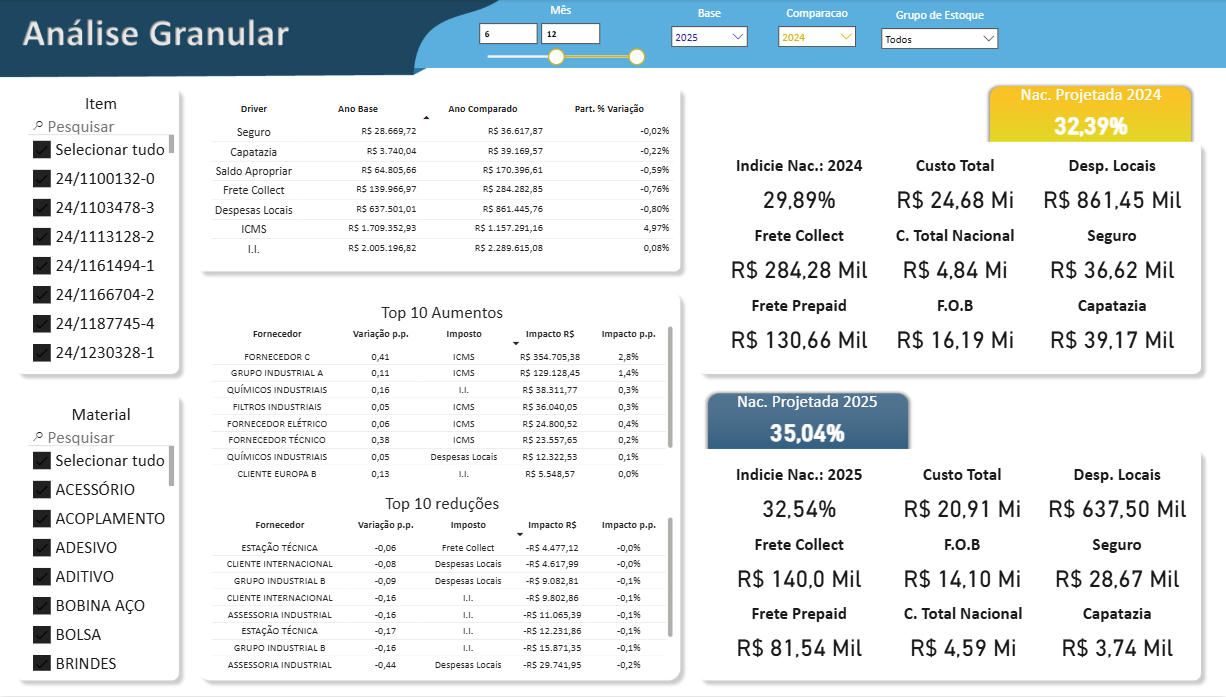

Layout of this report page (visuals, bound fields, positions):
{"tool":"powerbi","page":{"name":"Análise Granular","canvas":[1900,1080],"ordinal":3},"visuals":[{"type":"slicer","title":"Material","fields":{"Values":["DADOS IMPORTAÇÃO.FAM. MATERIAL"]},"box":[38,628,236,418],"z":0},{"type":"card","title":"Desp. Locais","fields":{"Values":["Medidas.Base Despesas Locais"]},"box":[1616,720,230,100],"z":0,"group":"g1"},{"type":"slicer","title":"Item","fields":{"Values":["DADOS IMPORTAÇÃO.CÓD. DI"]},"box":[38,146,236,428],"z":1000},{"type":"card","fields":{"Values":["Medidas.Base % Nacionalização"]},"box":[1124,720,230,100],"z":1000,"group":"g3"},{"type":"card","title":"Seguro","fields":{"Values":["Medidas.Base Seguro"]},"box":[1616,828,230,100],"z":1000,"group":"g1"},{"type":"card","fields":{"Values":["Medidas.Comparacao % Nacionalização"]},"box":[1124,242,230,100],"z":2000},{"type":"card","title":"Frete Collect","fields":{"Values":["Medidas.Base Frete Collect"]},"box":[1124,828,230,100],"z":2000,"group":"g3"},{"type":"card","title":"Capatazia","fields":{"Values":["Medidas.Base Capatazia"]},"box":[1616,936,230,100],"z":2000,"group":"g1"},{"type":"card","title":"Frete Collect","fields":{"Values":["Medidas.Comparacao Frete Collect"]},"box":[1124,350,230,100],"z":3000},{"type":"card","title":"C. Total Nacional","fields":{"Values":["Medidas.Base Custo Total Nacional"]},"box":[1378,936,230,100],"z":3000,"group":"g2"},{"type":"card","title":"C. Total Nacional","fields":{"Values":["Medidas.Comparacao Custo Total Nacional"]},"box":[1366,350,230,100],"z":4000},{"type":"card","title":"Frete Prepaid","fields":{"Values":["Medidas.Comparacao Frete Prepaid"]},"box":[1124,458,230,100],"z":5000},{"type":"card","title":"Frete Prepaid","fields":{"Values":["Medidas.Base Frete Prepaid"]},"box":[1124,936,230,100],"z":5000,"group":"g3"},{"type":"card","title":"Custo Total","fields":{"Values":["Medidas.Comparação Custo Total"]},"box":[1366,242,230,100],"z":6000},{"type":"card","title":"Custo Total","fields":{"Values":["Medidas.Base Custo Total"]},"box":[1376,720,230,100],"z":6000,"group":"g2"},{"type":"card","title":"F.O.B","fields":{"Values":["Medidas.Comparacao FOB Real"]},"box":[1366,458,230,100],"z":7000},{"type":"card","title":"F.O.B","fields":{"Values":["Medidas.Base FOB Real"]},"box":[1376,828,230,100],"z":7000,"group":"g2"},{"type":"card","fields":{"Values":["Medidas.Nac. Projetado Base"]},"box":[1536,132,310,92],"z":8000},{"type":"card","fields":{"Values":["Medidas.Nac. Projetado Comparação"]},"box":[1098,608,308,92],"z":9000},{"type":"pivotTable","fields":{"Rows":["Categorias.Driver"],"Values":["Categorias.Valor Componente Base (Analise Granular)","Categorias.Valor Componente Comparacao (Analise Granular)","Categorias.Valor Efeito Cascata (Analise Granular)"]},"box":[322,152,726,264],"z":10000},{"type":"tableEx","title":"Top 10 reduções","fields":{"Values":["DADOS IMPORTAÇÃO.DESCRIÇÃO ABREVIADA","Categorias.Variação p.p. Fornecedor Driver","Categorias.Driver","Categorias.Impacto R$ Fornecedor Driver","Categorias.Impacto p.p. (Contribuição ao Total)"]},"box":[322,766,726,280],"z":11000},{"type":"tableEx","title":"Top 10 Aumentos","fields":{"Values":["DADOS IMPORTAÇÃO.DESCRIÇÃO ABREVIADA","Categorias.Variação p.p. Fornecedor Driver","Categorias.Driver","Categorias.Impacto R$ Fornecedor Driver","Categorias.Impacto p.p. (Contribuição ao Total)"]},"box":[322,470,726,282],"z":12000},{"type":"card","title":"Desp. Locais","fields":{"Values":["Medidas.Comparacao Despesas Locais"]},"box":[1608,242,230,100],"z":17000},{"type":"card","title":"Seguro","fields":{"Values":["Medidas.Comparacao Seguro"]},"box":[1608,350,230,100],"z":18000},{"type":"card","title":"Capatazia","fields":{"Values":["Medidas.Comparacao Capatazia"]},"box":[1608,458,230,100],"z":19000},{"type":"group","id":"g1","title":"Grupo 1","box":[1616,720,230,316],"z":20000},{"type":"group","id":"g2","title":"Grupo 2","box":[1376,720,232,316],"z":21000},{"type":"group","id":"g3","title":"Grupo 3","box":[1124,720,230,316],"z":22000},{"type":"slicer","title":"Comparacao","fields":{"Values":["fAno_Base.Ano"]},"box":[1196,10,140,78.9],"z":22001},{"type":"slicer","title":"Grupo de Estoque","fields":{"Values":["DADOS IMPORTAÇÃO.GE DESCRIÇÃO","DADOS IMPORTAÇÃO.CÓD. DI"]},"box":[1356,12,201.2,76.2],"z":22002},{"type":"slicer","title":"Base","fields":{"Values":["fAno_Comparacao.Ano"]},"box":[1030,10,137.8,78.9],"z":22003},{"type":"slicer","title":"Mês","fields":{"Values":["Calendario.Mes Nº"]},"box":[730,4,278,110],"z":22004}]}

Visuals, with their boxes in screenshot pixels (x1, y1, x2, y2), scaled from the page's 1900x1080 canvas onto the 1226x697 screenshot:
"Material" slicer: <bbox>25, 405, 177, 675</bbox>
"Desp. Locais" card: <bbox>1043, 465, 1191, 529</bbox>
"Item" slicer: <bbox>25, 94, 177, 370</bbox>
card - Medidas.Base % Nacionalização: <bbox>725, 465, 874, 529</bbox>
"Seguro" card: <bbox>1043, 534, 1191, 599</bbox>
card - Medidas.Comparacao % Nacionalização: <bbox>725, 156, 874, 221</bbox>
"Frete Collect" card: <bbox>725, 534, 874, 599</bbox>
"Capatazia" card: <bbox>1043, 604, 1191, 669</bbox>
"Frete Collect" card: <bbox>725, 226, 874, 290</bbox>
"C. Total Nacional" card: <bbox>889, 604, 1038, 669</bbox>
"C. Total Nacional" card: <bbox>881, 226, 1030, 290</bbox>
"Frete Prepaid" card: <bbox>725, 296, 874, 360</bbox>
"Frete Prepaid" card: <bbox>725, 604, 874, 669</bbox>
"Custo Total" card: <bbox>881, 156, 1030, 221</bbox>
"Custo Total" card: <bbox>888, 465, 1036, 529</bbox>
"F.O.B" card: <bbox>881, 296, 1030, 360</bbox>
"F.O.B" card: <bbox>888, 534, 1036, 599</bbox>
card - Medidas.Nac. Projetado Base: <bbox>991, 85, 1191, 145</bbox>
card - Medidas.Nac. Projetado Comparação: <bbox>708, 392, 907, 452</bbox>
pivotTable - Categorias.Driver x Categorias.Valor Componente Base (Analise Granular): <bbox>208, 98, 676, 268</bbox>
"Top 10 reduções" tableEx: <bbox>208, 494, 676, 675</bbox>
"Top 10 Aumentos" tableEx: <bbox>208, 303, 676, 485</bbox>
"Desp. Locais" card: <bbox>1038, 156, 1186, 221</bbox>
"Seguro" card: <bbox>1038, 226, 1186, 290</bbox>
"Capatazia" card: <bbox>1038, 296, 1186, 360</bbox>
"Grupo 1" group: <bbox>1043, 465, 1191, 669</bbox>
"Grupo 2" group: <bbox>888, 465, 1038, 669</bbox>
"Grupo 3" group: <bbox>725, 465, 874, 669</bbox>
"Comparacao" slicer: <bbox>772, 6, 862, 57</bbox>
"Grupo de Estoque" slicer: <bbox>875, 8, 1005, 57</bbox>
"Base" slicer: <bbox>665, 6, 754, 57</bbox>
"Mês" slicer: <bbox>471, 3, 650, 74</bbox>
